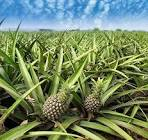Pineapple: (42, 78, 76, 120), (87, 76, 102, 114)
